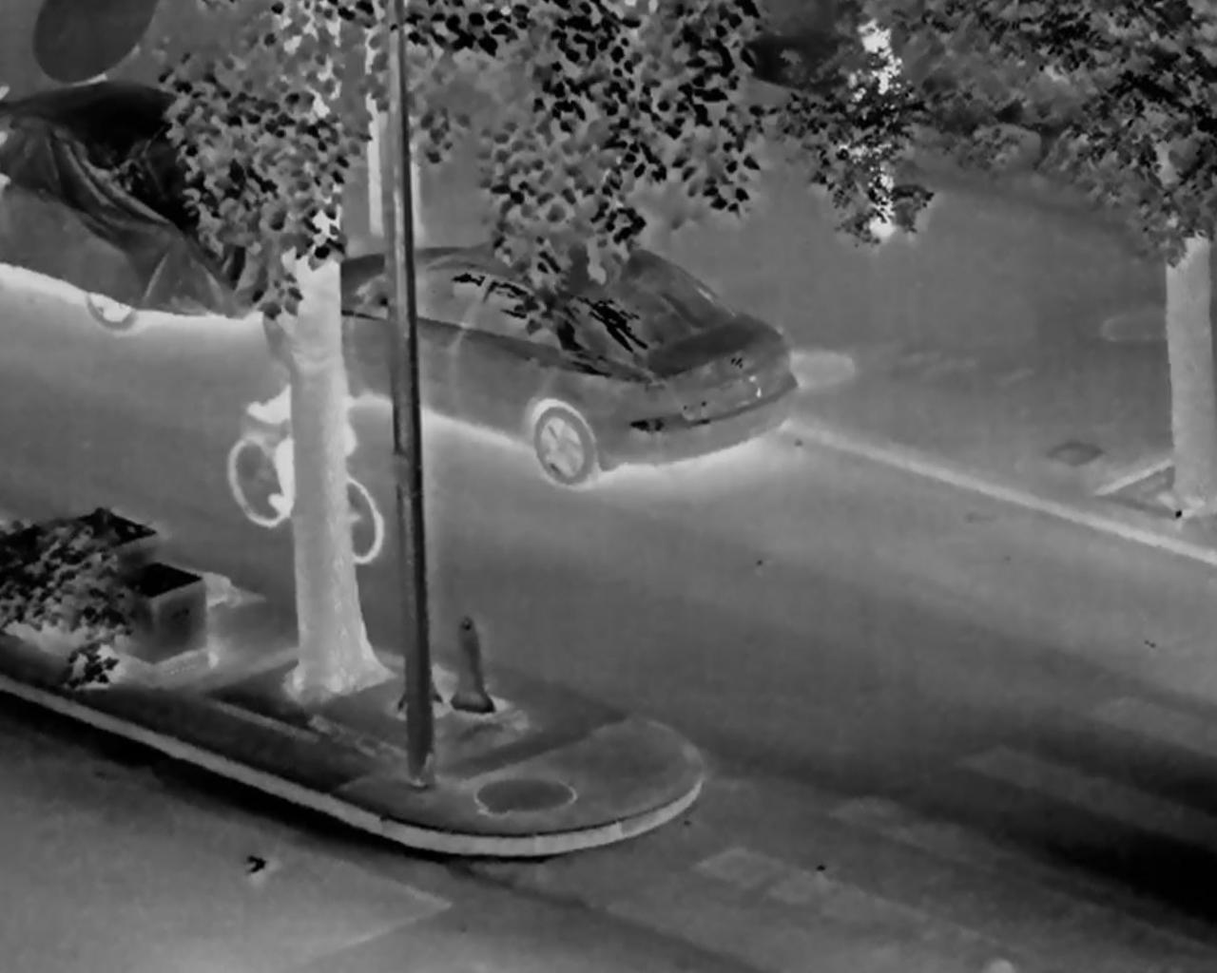person: (250, 345, 357, 511), (834, 20, 905, 240)
